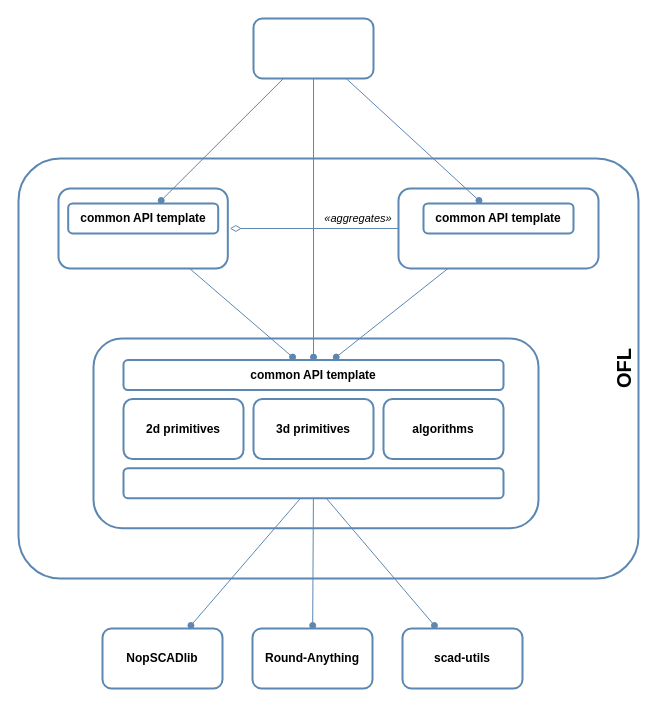
Some shapes in this 656 by 706 pixel diagram are drawn without their labels. The shapes that lost their labels are listed below. From the top down, each one's box as (x1, y1, x2, y2) in pixels, then its label:
(252, 17, 374, 79): clients
(57, 187, 228, 269): vitamins
(397, 187, 599, 269): artifacts
(92, 337, 539, 529): foundation
(122, 467, 504, 499): wrappers
